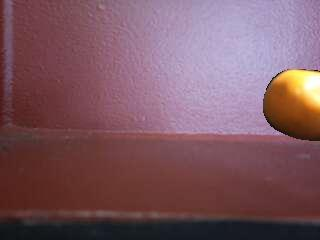Potato: (262, 65, 320, 143)
